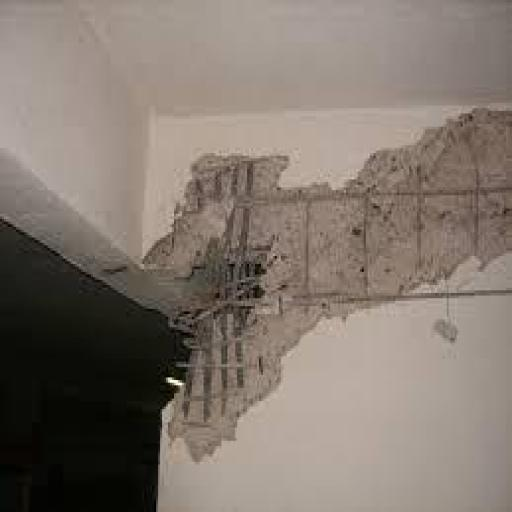spalling: (147, 109, 512, 459)
